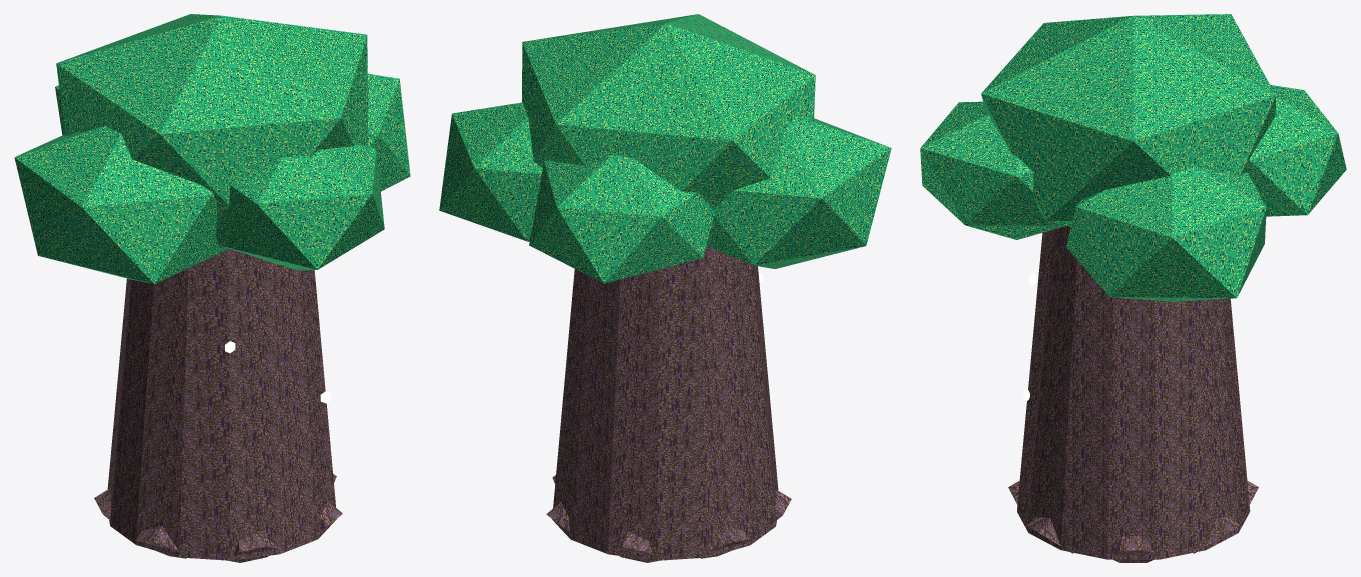
Rendered from a10_arvore_mae.glb.
The picture shows the model from 3 angles, left to right: view 1: azimuth 30°, elevation 25°; view 2: azimuth 150°, elevation 25°; view 3: azimuth 270°, elevation 25°; orthographic projection.
Parts seen in each view (by area): view 1: a10_arvore_mae; view 2: a10_arvore_mae; view 3: a10_arvore_mae.
Boxes of the visible parts, <box> form: a10_arvore_mae: <box>14,14,410,562</box>; a10_arvore_mae: <box>439,14,891,562</box>; a10_arvore_mae: <box>920,14,1346,562</box>.
Bounding box in the file's own units: 23.2 × 29 × 21.92.
Materials: 3 (2 with a texture image).
